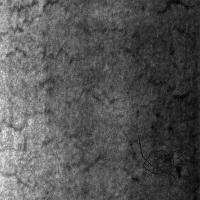crazing: (2, 2, 144, 153), (150, 85, 199, 178), (138, 135, 191, 184)
